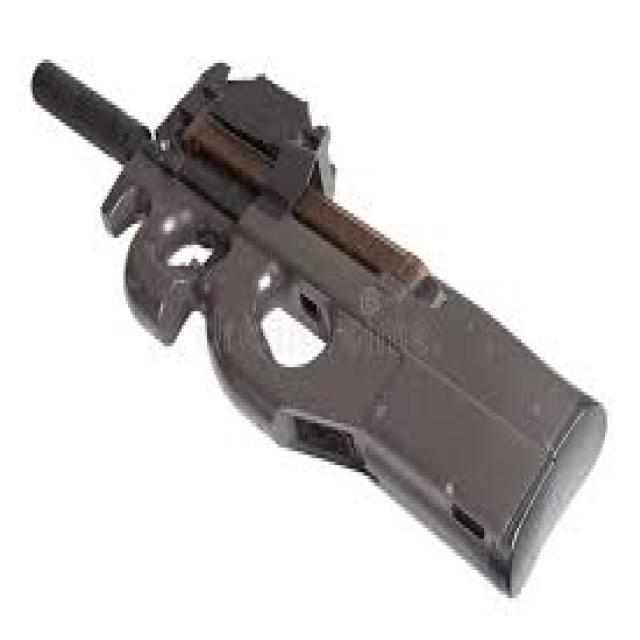Gun: (16, 16, 627, 618)
